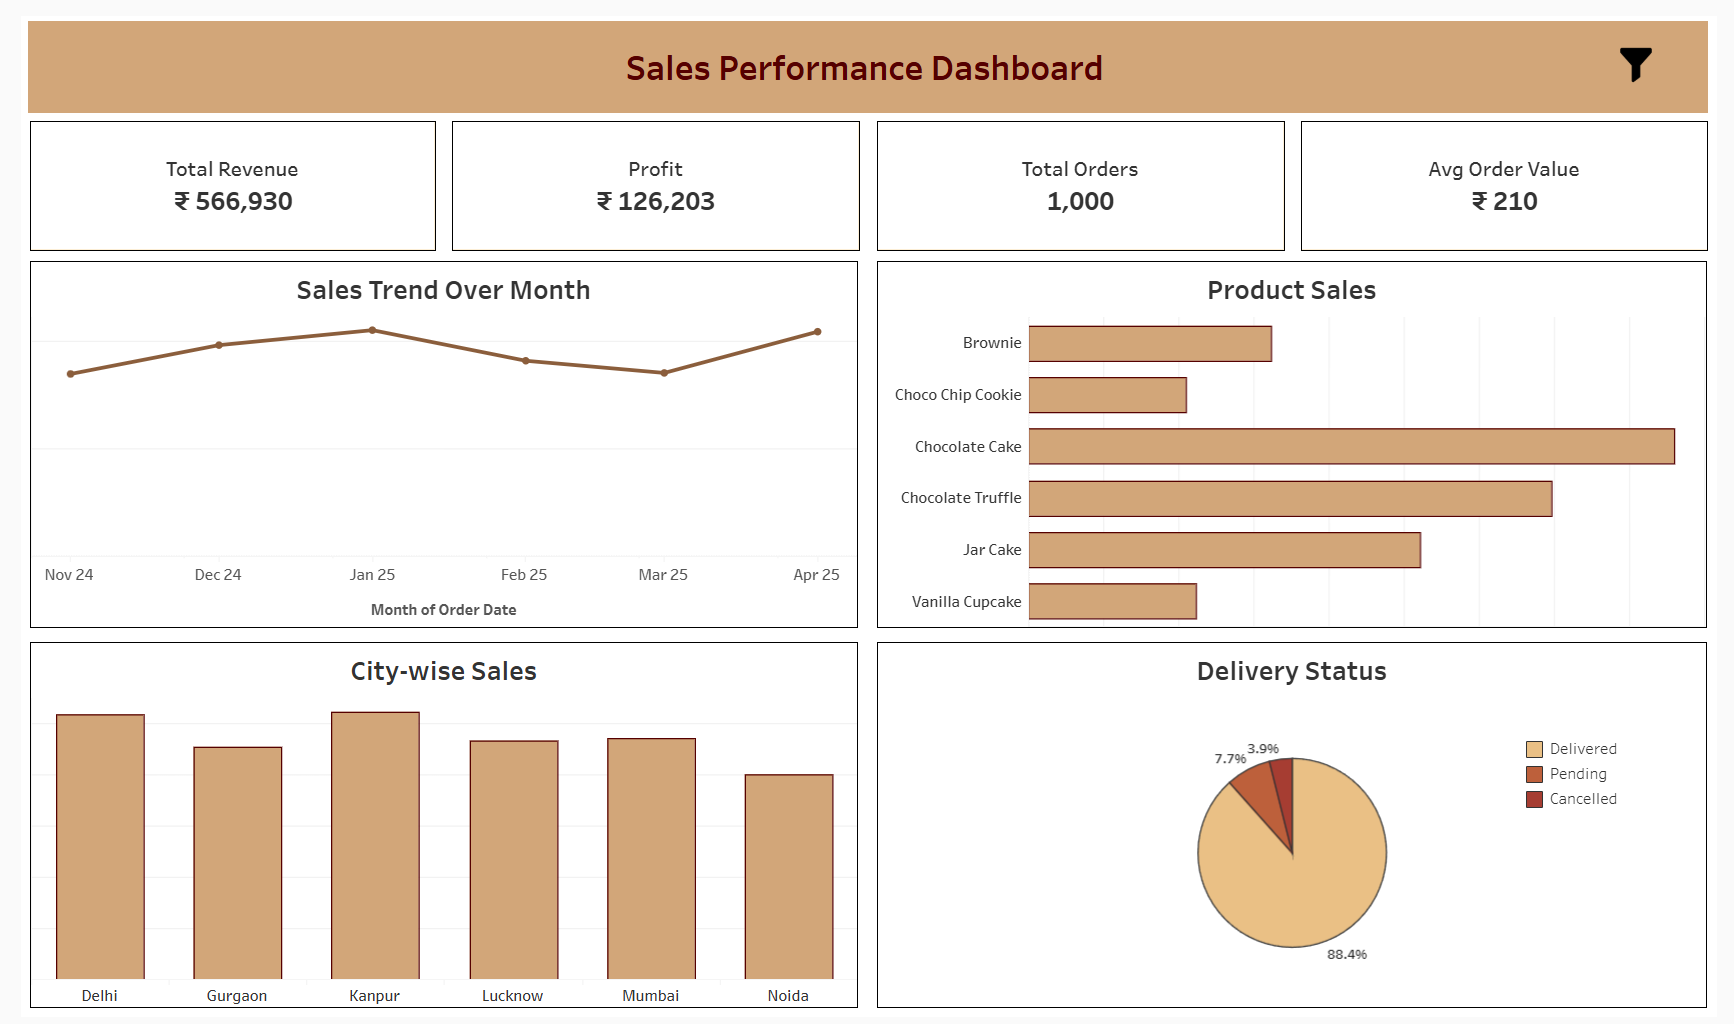

What the dashboard file says about the page in this screenshot:
{"tool":"tableau","page":{"name":"Dashboard 1","canvas":[1357,801],"ordinal":0},"visuals":[{"type":"text","box":[370.7,17,608.2,48]},{"type":"dashboard-object","box":[1276,24.9,31.7,29.3]},{"type":"filter","title":"Sheet 5","param":"[federated.1a43gnj115loxx1c2jehe1e13437].[tmn:Order_Date:qk]","box":[1003.1,33.8,272.9,50.7]},{"type":"worksheet","title":"Sheet 1","mark":"Automatic","box":[6.5,83.6,326,104.9]},{"type":"worksheet","title":"Sheet 1 (2)","mark":"Automatic","box":[344.6,83.6,326,104.9]},{"type":"worksheet","title":"Sheet 2","mark":"Automatic","box":[684.6,83.6,326,104.9]},{"type":"worksheet","title":"Sheet 2 (2)","mark":"Automatic","box":[1023.6,83.6,326,104.9]},{"type":"filter","title":"Sheet 4","param":"[federated.1a43gnj115loxx1c2jehe1e13437].[none:Customer_City:nk]","box":[1003.1,84.5,272.9,53.9]},{"type":"filter","title":"Sheet 3","param":"[federated.1a43gnj115loxx1c2jehe1e13437].[none:Product:nk]","box":[1003.1,138.4,272.9,53.9]},{"type":"filter","title":"Sheet 6","param":"[federated.1a43gnj115loxx1c2jehe1e13437].[none:Delivery_Status:nk]","box":[1003.1,192.3,272.9,53.9]},{"type":"worksheet","title":"Sheet 5","mark":"Automatic","rows":["total_price"],"cols":["Order_Date"],"box":[6.5,195.6,663.1,294.3]},{"type":"worksheet","title":"Sheet 3","mark":"Automatic","rows":["Product"],"cols":["total_price"],"box":[685.5,195.6,663.1,294.3]},{"type":"worksheet","title":"Sheet 4","mark":"Bar","rows":["total_price"],"cols":["Customer_City"],"box":[6.5,500.5,663.1,293.4]},{"type":"worksheet","title":"Sheet 6","mark":"Pie","box":[685.5,500.5,663.1,293.4]},{"type":"legend","title":"Sheet 6","param":"[federated.1a43gnj115loxx1c2jehe1e13437].[none:Delivery_Status:nk]","box":[1200.5,577,111.8,66.7]}]}

Visuals, with their boxes in screenshot pixels (x1, y1, x2, y2), scaled from the page's 1357x801 canvas onto the 1734x1024 screenshot:
text: locate(474, 22, 1251, 83)
dashboard-object: locate(1630, 32, 1671, 69)
"Sheet 5" filter: locate(1282, 43, 1630, 108)
"Sheet 1" worksheet: locate(8, 107, 425, 241)
"Sheet 1 (2)" worksheet: locate(440, 107, 857, 241)
"Sheet 2" worksheet: locate(875, 107, 1291, 241)
"Sheet 2 (2)" worksheet: locate(1308, 107, 1725, 241)
"Sheet 4" filter: locate(1282, 108, 1630, 177)
"Sheet 3" filter: locate(1282, 177, 1630, 246)
"Sheet 6" filter: locate(1282, 246, 1630, 315)
"Sheet 5" worksheet: locate(8, 250, 856, 626)
"Sheet 3" worksheet: locate(876, 250, 1723, 626)
"Sheet 4" worksheet (Bar marks): locate(8, 640, 856, 1015)
"Sheet 6" worksheet (Pie marks): locate(876, 640, 1723, 1015)
"Sheet 6" legend: locate(1534, 738, 1677, 823)
